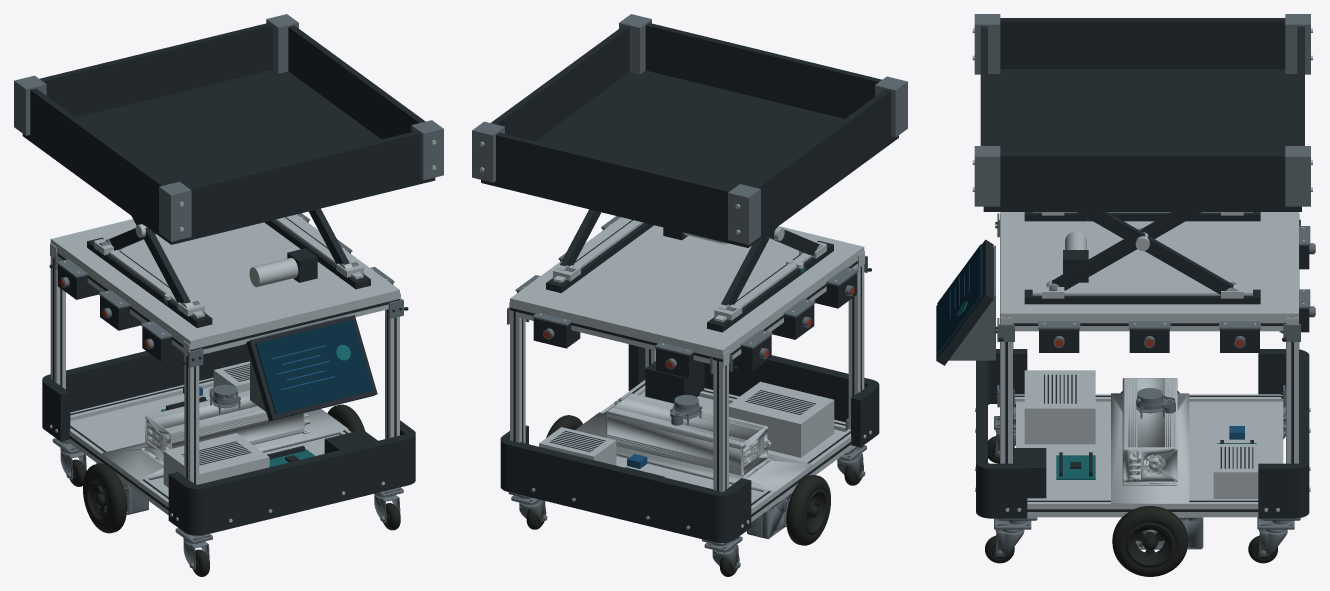
The model's file is 1a82c750-4591-4be6-a572-d242a4e8eedf.glb.
3 views of the same model, side by side, from view 1: azimuth 30°, elevation 25°; view 2: azimuth 150°, elevation 25°; view 3: azimuth 270°, elevation 25° (orthographic). The views are drawn at different scales.
Visible parts, largest first — view 1: tray_floor, fixed_top_deck, bumper_0.424, tray_front, tray_rear, display, battery, bumper_-0.424, tray_left, tray_right, floor, pc (+26 smaller); view 2: tray_floor, fixed_top_deck, bumper_-0.424, tray_rear, tray_front, battery, tray_left, bumper_0.424, tray_right, pc, wheel_right, frame_x_0.66_-0.38 (+24 smaller); view 3: tray_floor, fixed_top_deck, tray_right, tray_left, floor, battery, pc, bumper_-0.424, bumper_0.424, wheel_left, display, frame_z_0.19_0.37 (+30 smaller).
Boxes of the visible parts, bbox=[...] form: tray_floor: bbox=[22, 69, 435, 244]; fixed_top_deck: bbox=[50, 214, 399, 344]; bumper_0.424: bbox=[168, 420, 415, 535]; tray_front: bbox=[187, 131, 421, 235]; tray_rear: bbox=[39, 23, 272, 117]; display: bbox=[246, 315, 377, 421]; battery: bbox=[102, 390, 348, 480]; bumper_-0.424: bbox=[42, 344, 249, 441]; tray_left: bbox=[29, 88, 167, 230]; tray_right: bbox=[288, 25, 425, 139]; floor: bbox=[70, 386, 339, 493]; pc: bbox=[163, 433, 269, 487]; tray_floor: bbox=[481, 70, 898, 247]; fixed_top_deck: bbox=[510, 217, 864, 354]; bumper_-0.424: bbox=[500, 425, 751, 542]; tray_rear: bbox=[494, 132, 731, 238]; tray_front: bbox=[645, 23, 881, 118]; battery: bbox=[575, 393, 811, 492]; tray_left: bbox=[752, 89, 892, 233]; bumper_0.424: bbox=[628, 344, 879, 447]; tray_right: bbox=[491, 25, 629, 140]; pc: bbox=[729, 381, 834, 457]; wheel_right: bbox=[786, 474, 830, 545]; frame_x_0.66_-0.38: bbox=[509, 302, 729, 367]; tray_floor: bbox=[983, 69, 1301, 211]; fixed_top_deck: bbox=[1000, 212, 1298, 317]; tray_right: bbox=[1000, 153, 1285, 205]; tray_left: bbox=[1000, 18, 1285, 68]; floor: bbox=[1016, 401, 1283, 498]; battery: bbox=[1111, 378, 1189, 503]; pc: bbox=[1024, 370, 1095, 444]; bumper_-0.424: bbox=[1258, 349, 1310, 518]; bumper_0.424: bbox=[975, 349, 1027, 518]; wheel_left: bbox=[1112, 506, 1187, 576]; display: bbox=[936, 239, 993, 365]; frame_z_0.19_0.37: bbox=[1027, 499, 1258, 517].
Size of the model in its own units: 0.859 by 1.2 by 0.9643.
